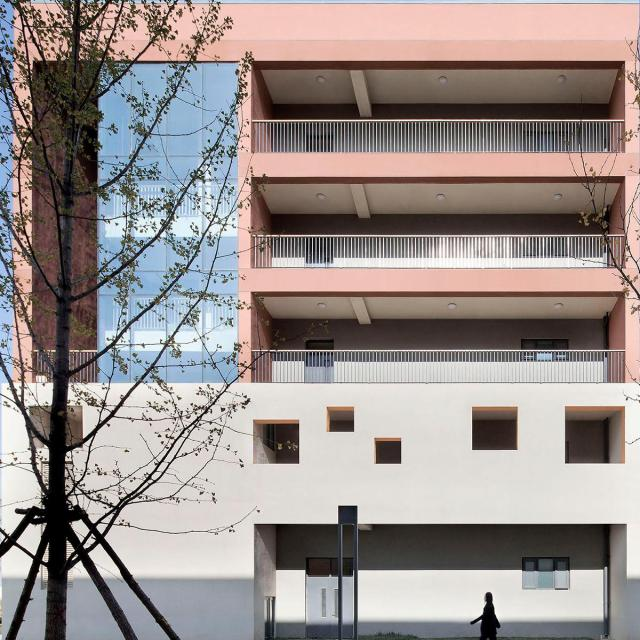Railing: (254, 348, 626, 384), (252, 233, 624, 268), (254, 120, 627, 152), (36, 348, 100, 382)
door: (306, 574, 356, 639)
wall: (0, 0, 639, 639)
windows: (97, 61, 242, 383)
